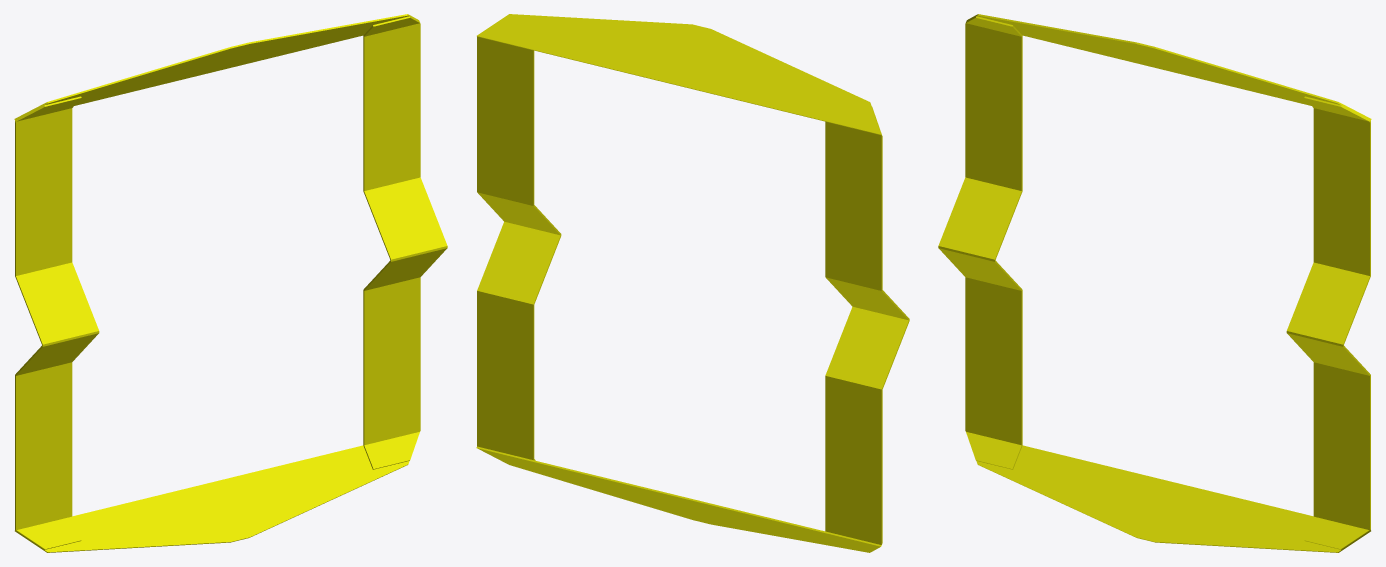
Rendered from jackal-fenders.dae.
3 renders of one model, left to right at view 1: azimuth 30°, elevation 25°; view 2: azimuth 150°, elevation 25°; view 3: azimuth 330°, elevation 25°, orthographic.
Visible parts, largest first — view 1: Jackal-Fenders; view 2: Jackal-Fenders; view 3: Jackal-Fenders.
Boxes of the visible parts, x1,y1,x2,y2 form: Jackal-Fenders: (14, 14, 447, 552); Jackal-Fenders: (476, 14, 909, 552); Jackal-Fenders: (938, 14, 1371, 552).
Size of the model in its own units: 0.43 by 0.0522 by 0.5031.
